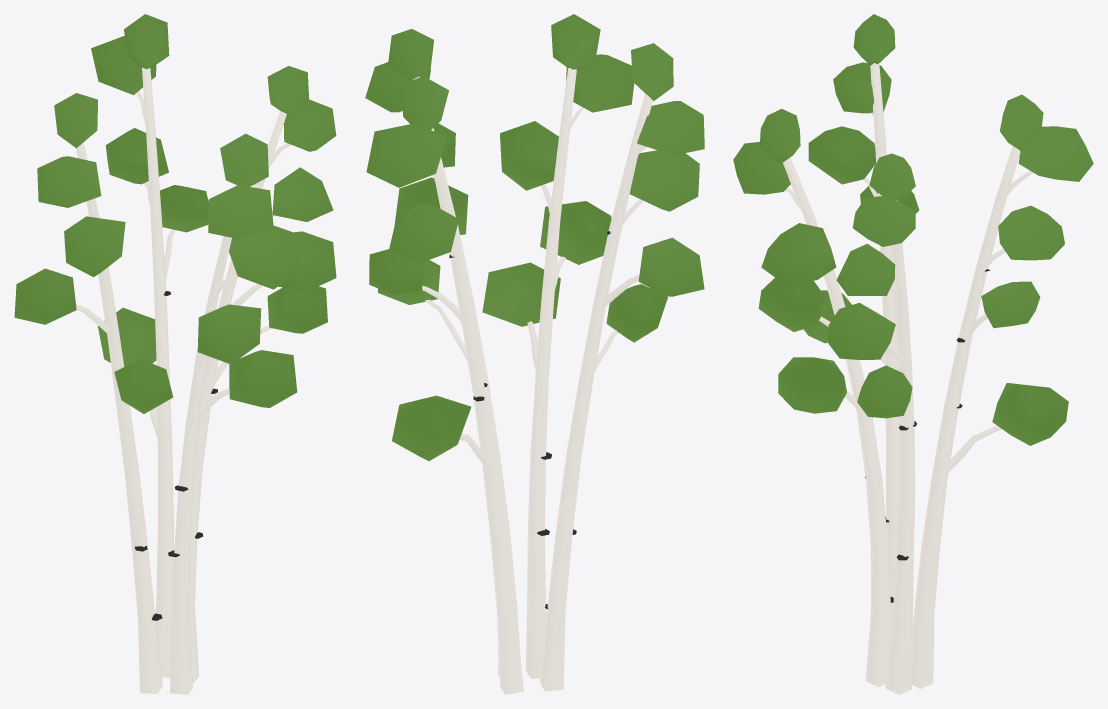
File: Blender_PaperBirch_1_Far.glb
The picture shows the model from 3 angles, left to right: view 1: azimuth 30°, elevation 25°; view 2: azimuth 150°, elevation 25°; view 3: azimuth 270°, elevation 25°; orthographic projection. The views are drawn at different scales.
Parts seen in each view (by area): view 1: Blender_PaperBirch_1_Far; view 2: Blender_PaperBirch_1_Far; view 3: Blender_PaperBirch_1_Far.
Boxes of the visible parts, x1=… form: Blender_PaperBirch_1_Far: x1=14, y1=14, x2=336, y2=694; Blender_PaperBirch_1_Far: x1=365, y1=14, x2=704, y2=694; Blender_PaperBirch_1_Far: x1=733, y1=14, x2=1093, y2=694.
Size of the model in its own units: 9.93 by 18.8 by 9.97.
